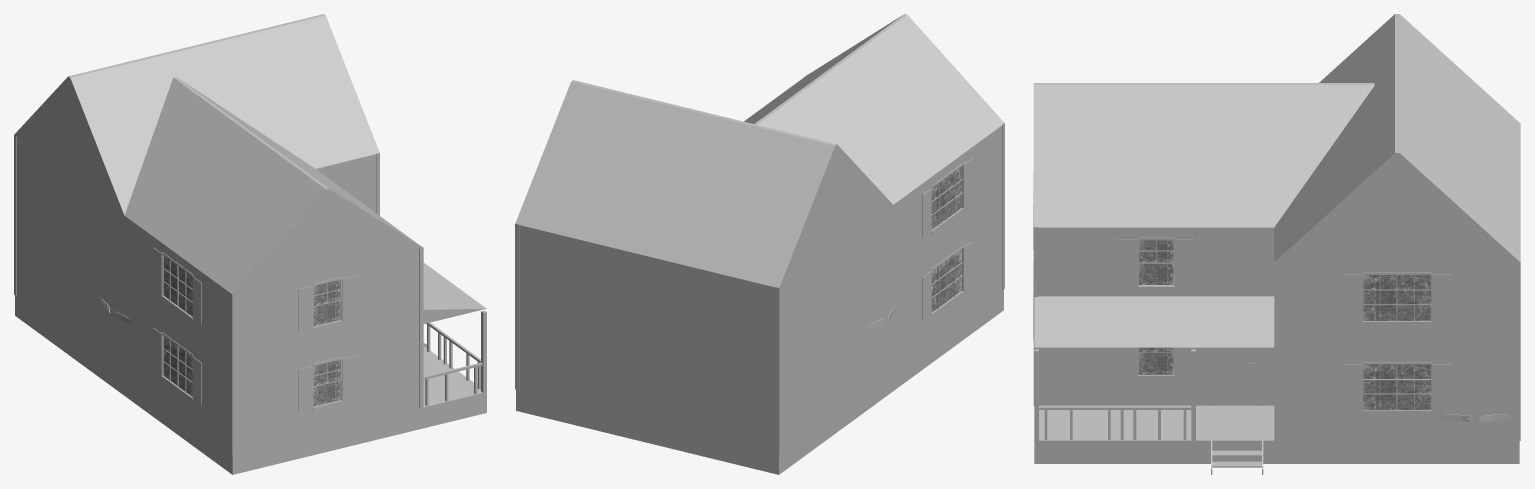
The model's file is Suburbs_house8.fbx.
3 views of the same model, side by side, from view 1: azimuth 30°, elevation 25°; view 2: azimuth 150°, elevation 25°; view 3: azimuth 270°, elevation 25° (orthographic). The views are drawn at different scales.
Parts seen in each view (by area): view 1: Cube.010, Cube.1403, SmallHouse1.001, Cube.007, Plane.627, Plane.644, Cube.1777, Cube.1857, Cube.1856, Cube.1778, Plane.631, Plane.640; view 2: Cube.010, Cube.1403, SmallHouse1.001, Plane.627, Plane.644; view 3: Cube.010, Cube.1403, SmallHouse1.001, Cube.007, Cube.046, Plane.646, Plane.606, Cube.062, Cube.061, Cube.060, Cube.059, Cube.1853 (+7 smaller).
Part boxes in pixels (bbox=[...]): Cube.010: bbox=[14, 14, 422, 294]; Cube.1403: bbox=[14, 215, 486, 474]; SmallHouse1.001: bbox=[14, 134, 423, 374]; Cube.007: bbox=[423, 263, 486, 323]; Plane.627: bbox=[163, 336, 192, 396]; Plane.644: bbox=[163, 256, 192, 313]; Cube.1777: bbox=[298, 286, 313, 331]; Cube.1857: bbox=[298, 366, 313, 411]; Cube.1856: bbox=[342, 355, 356, 400]; Cube.1778: bbox=[342, 275, 356, 320]; Plane.631: bbox=[314, 360, 340, 385]; Plane.640: bbox=[314, 280, 340, 305]; Cube.010: bbox=[515, 14, 1003, 287]; Cube.1403: bbox=[515, 206, 1004, 474]; SmallHouse1.001: bbox=[515, 74, 1004, 370]; Plane.627: bbox=[931, 249, 961, 312]; Plane.644: bbox=[931, 168, 961, 229]; Cube.010: bbox=[1033, 14, 1520, 262]; Cube.1403: bbox=[1033, 267, 1520, 474]; SmallHouse1.001: bbox=[1033, 123, 1520, 351]; Cube.007: bbox=[1034, 296, 1274, 347]; Cube.046: bbox=[1214, 347, 1256, 404]; Plane.646: bbox=[1363, 275, 1431, 320]; Plane.606: bbox=[1363, 364, 1431, 410]; Cube.062: bbox=[1175, 239, 1193, 286]; Cube.061: bbox=[1119, 239, 1137, 286]; Cube.060: bbox=[1432, 274, 1450, 321]; Cube.059: bbox=[1344, 274, 1362, 321]; Cube.1853: bbox=[1344, 364, 1362, 410].
Size of the model in its own units: 910 by 870 by 1234.
